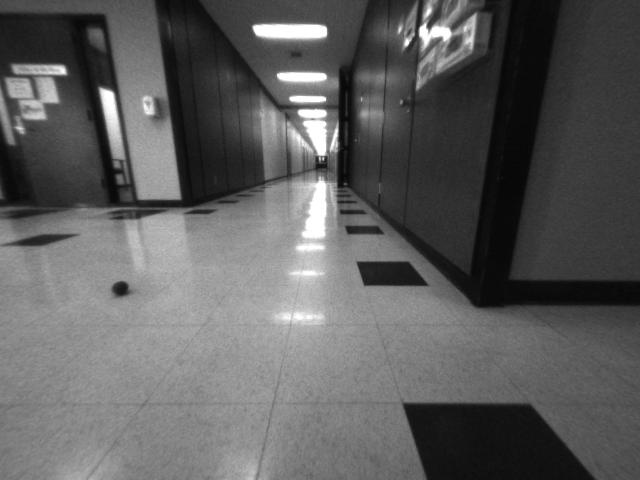dogtoy: (101, 269, 139, 304)
